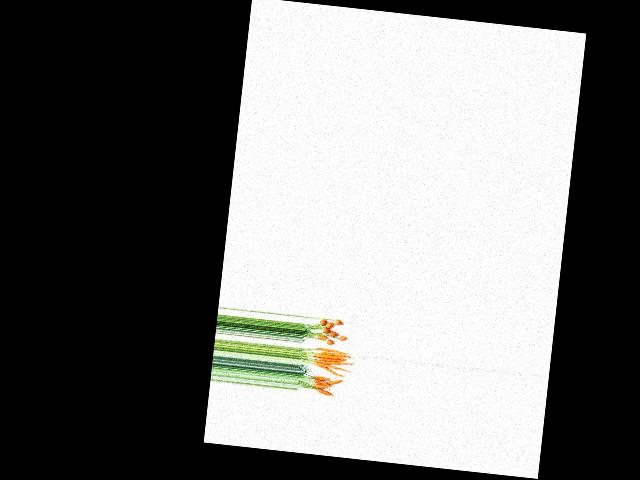carrot: (334, 319, 345, 328)
